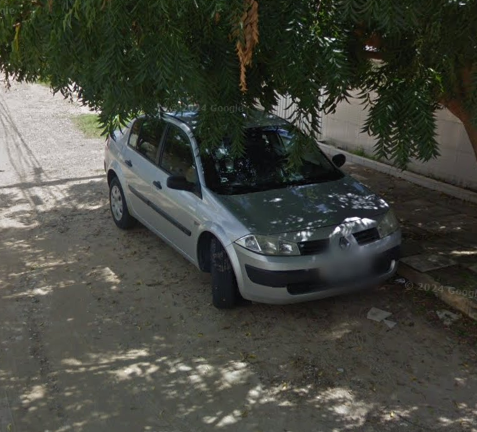car: (103, 100, 405, 314)
